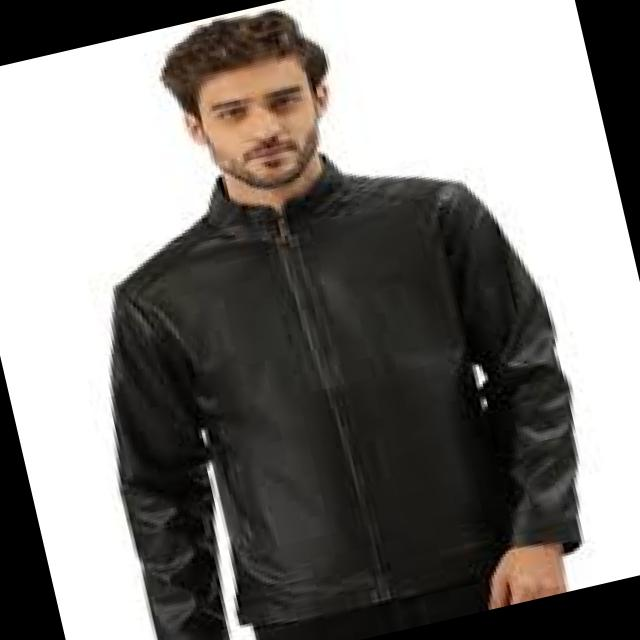Jacket: (87, 119, 640, 640)
